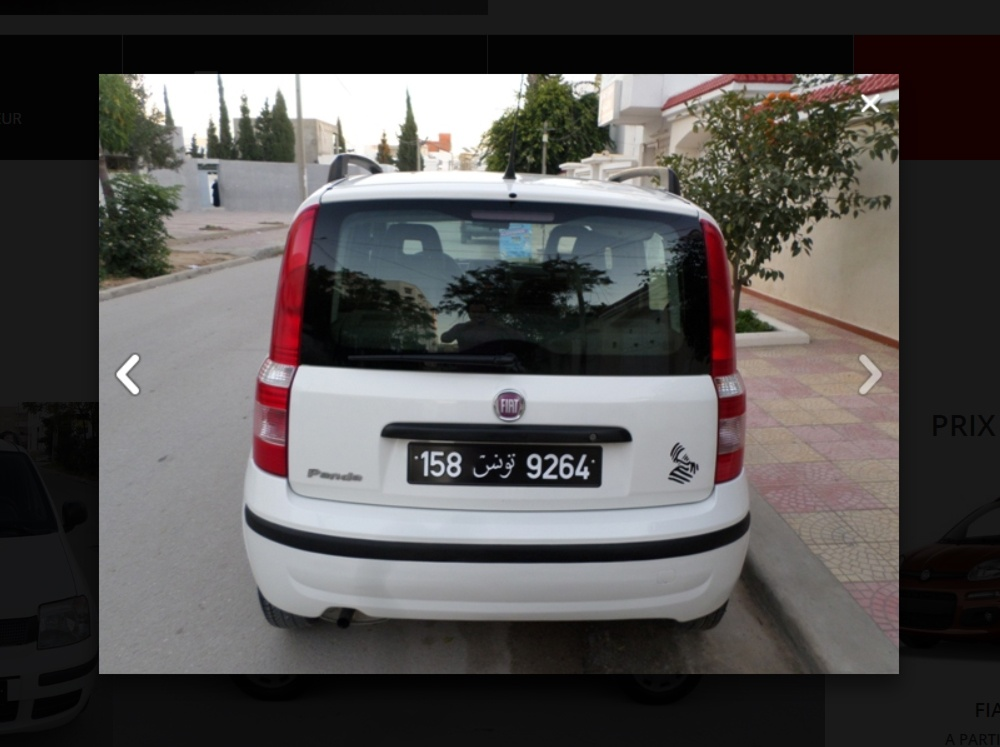LP: (402, 440, 608, 493)
